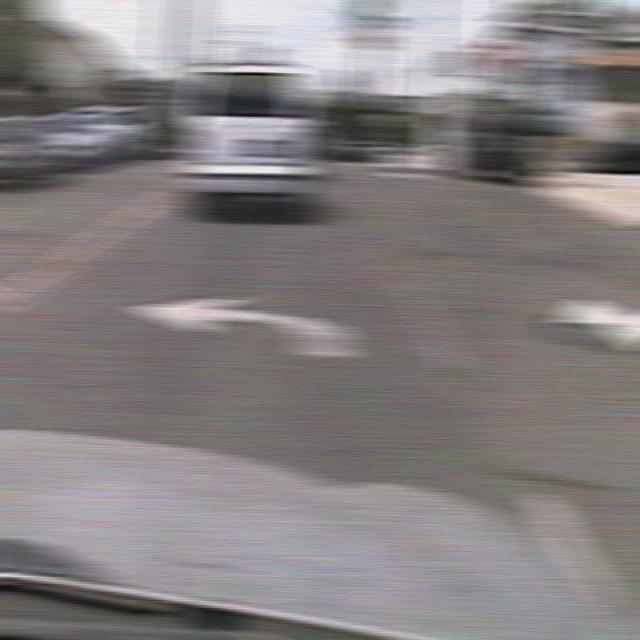stop: (478, 39, 514, 69)
